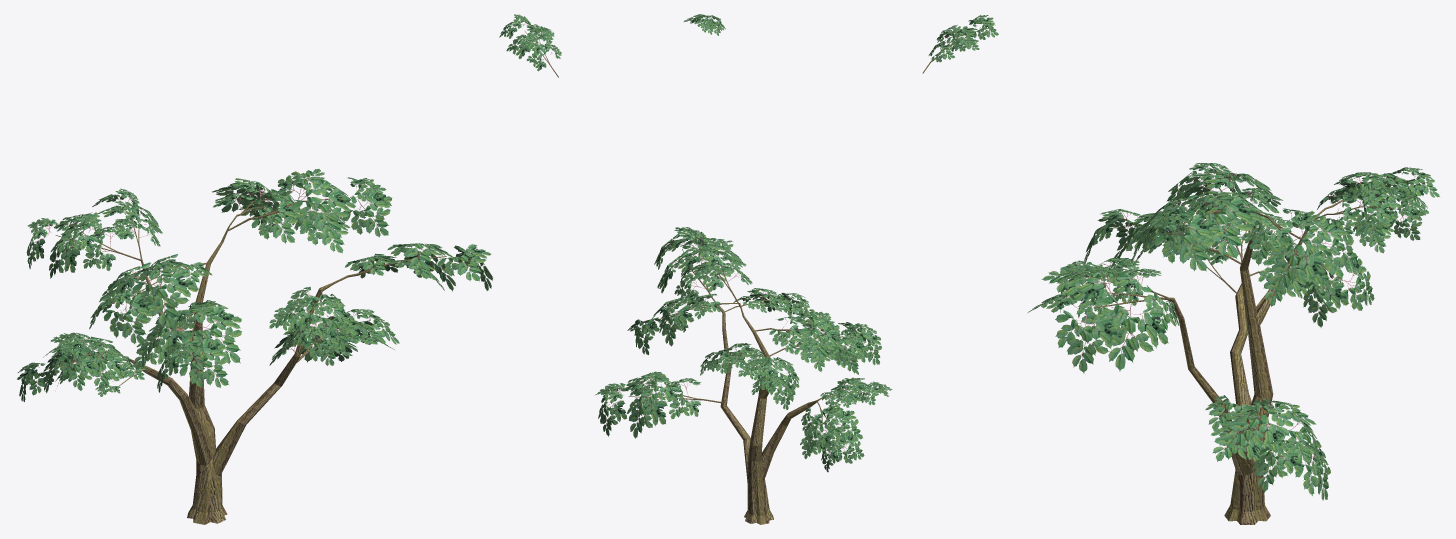
File: elm-tree.obj
3 views of the same model, side by side, from view 1: azimuth 30°, elevation 25°; view 2: azimuth 150°, elevation 25°; view 3: azimuth 270°, elevation 25° (orthographic). The views are drawn at different scales.
Visible parts, largest first — view 1: Circle, Plane.093_Plane.018, Plane.081_Plane.016, Plane.104_Plane.020, Plane.106_Plane.020, Plane.095_Plane.018, Plane.083_Plane.016, Plane.078_Plane.016, Plane.079_Plane.016, Plane.004_Plane.001, Plane.103_Plane.020, Plane.027_Plane.005 (+9 smaller); view 2: Circle, Plane.115_Plane.022, Plane.092_Plane.018, Plane.071_Plane.014, Plane.117_Plane.022, Plane.094_Plane.018, Plane.111_Plane.022, Plane.113_Plane.022, Plane.016_Plane.002, Plane.090_Plane.018, Plane.089_Plane.018, Plane.015_Plane.002 (+10 smaller); view 3: Circle, Plane.005_Plane.001, Plane.003_Plane.001, Plane.082_Plane.016, Plane.084_Plane.016, Plane.070_Plane.014, Plane.114_Plane.022, Plane.006_Plane.001, Plane.067_Plane.014, Plane.072_Plane.014, Plane.116_Plane.022, Plane.071_Plane.014 (+14 smaller).
Part boxes in pixels (<box>): Circle: <box>129,224,337,524</box>; Plane.093_Plane.018: <box>131,269,199,328</box>; Plane.081_Plane.016: <box>291,189,355,239</box>; Plane.104_Plane.020: <box>181,306,241,364</box>; Plane.106_Plane.020: <box>179,338,228,387</box>; Plane.095_Plane.018: <box>103,294,157,344</box>; Plane.083_Plane.016: <box>343,189,391,237</box>; Plane.078_Plane.016: <box>276,169,329,203</box>; Plane.079_Plane.016: <box>251,201,300,243</box>; Plane.004_Plane.001: <box>437,244,491,281</box>; Plane.103_Plane.020: <box>141,316,187,357</box>; Plane.027_Plane.005: <box>81,347,127,391</box>; Circle: <box>718,303,820,524</box>; Plane.115_Plane.022: <box>626,389,667,438</box>; Plane.092_Plane.018: <box>799,326,842,361</box>; Plane.071_Plane.014: <box>659,305,693,346</box>; Plane.117_Plane.022: <box>598,395,627,436</box>; Plane.094_Plane.018: <box>830,339,867,372</box>; Plane.111_Plane.022: <box>638,380,678,407</box>; Plane.113_Plane.022: <box>667,388,700,419</box>; Plane.016_Plane.002: <box>828,409,862,443</box>; Plane.090_Plane.018: <box>769,325,804,353</box>; Plane.089_Plane.018: <box>794,309,830,334</box>; Plane.015_Plane.002: <box>805,420,833,451</box>; Circle: <box>1167,218,1315,524</box>; Plane.005_Plane.001: <box>1093,293,1168,371</box>; Plane.003_Plane.001: <box>1055,310,1121,373</box>; Plane.082_Plane.016: <box>1180,197,1263,258</box>; Plane.084_Plane.016: <box>1154,214,1220,271</box>; Plane.070_Plane.014: <box>1267,235,1326,293</box>; Plane.114_Plane.022: <box>1223,405,1289,452</box>; Plane.006_Plane.001: <box>1056,264,1128,300</box>; Plane.067_Plane.014: <box>1290,211,1345,256</box>; Plane.072_Plane.014: <box>1303,279,1348,327</box>; Plane.116_Plane.022: <box>1251,446,1302,492</box>; Plane.071_Plane.014: <box>1311,219,1360,278</box>.
Bounding box in the file's own units: 21.63 × 28.93 × 22.47.
